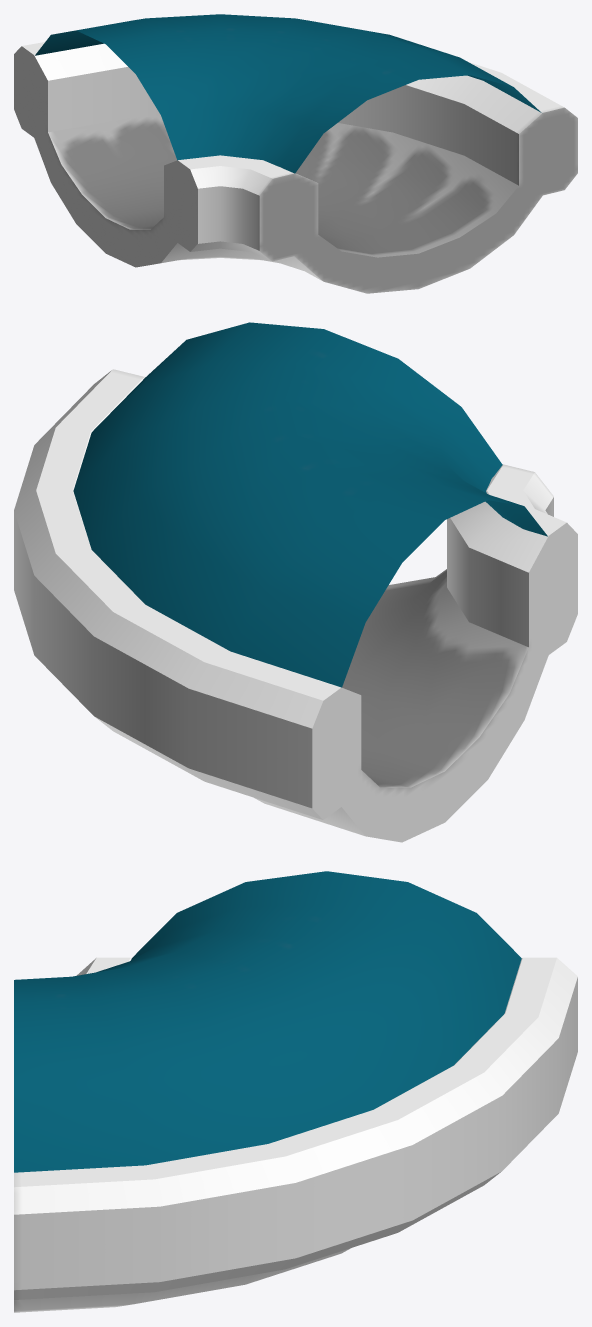
The model's file is Conveyor_Curve_90.fbx.
3 renders of one model, top to bottom at view 1: azimuth 30°, elevation 25°; view 2: azimuth 150°, elevation 25°; view 3: azimuth 270°, elevation 25°, orthographic. The views are drawn at different scales.
Parts seen in each view (by area): view 1: Conveyor_Curve; view 2: Conveyor_Curve; view 3: Conveyor_Curve.
Part boxes in pixels (x1,y1,x2,y2): Conveyor_Curve: [14, 14, 577, 293]; Conveyor_Curve: [14, 322, 577, 842]; Conveyor_Curve: [14, 871, 577, 1312].
Bounding box in the file's own units: 180 × 101 × 180.
